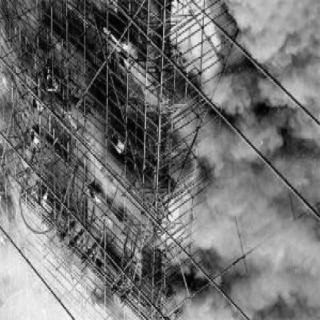Fire: (161, 139, 203, 277), (103, 212, 121, 248)
Smoke: (196, 6, 317, 314)
